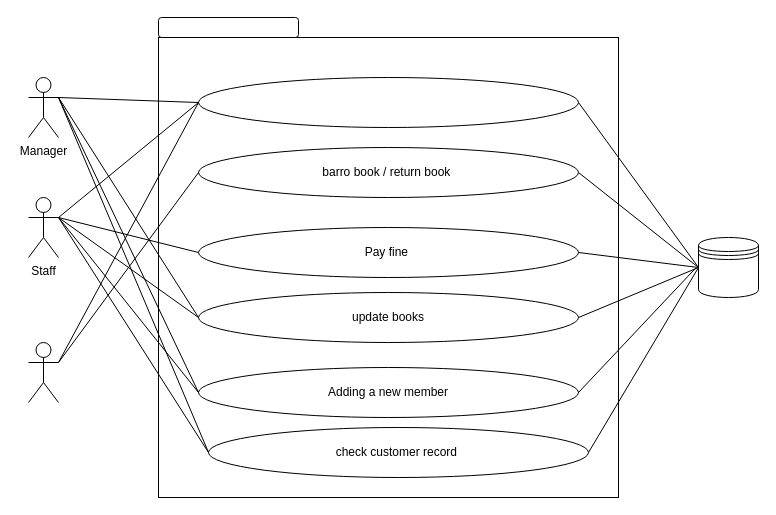
This 776x515 diagram has some shape labels left out. The shapes that lost their labels are listed below. From the top down, each one's centre as x and y in pixels, then its label:
(x=228, y=27): Library Lending System
(x=388, y=102): login / sign up
(x=43, y=372): Customer
